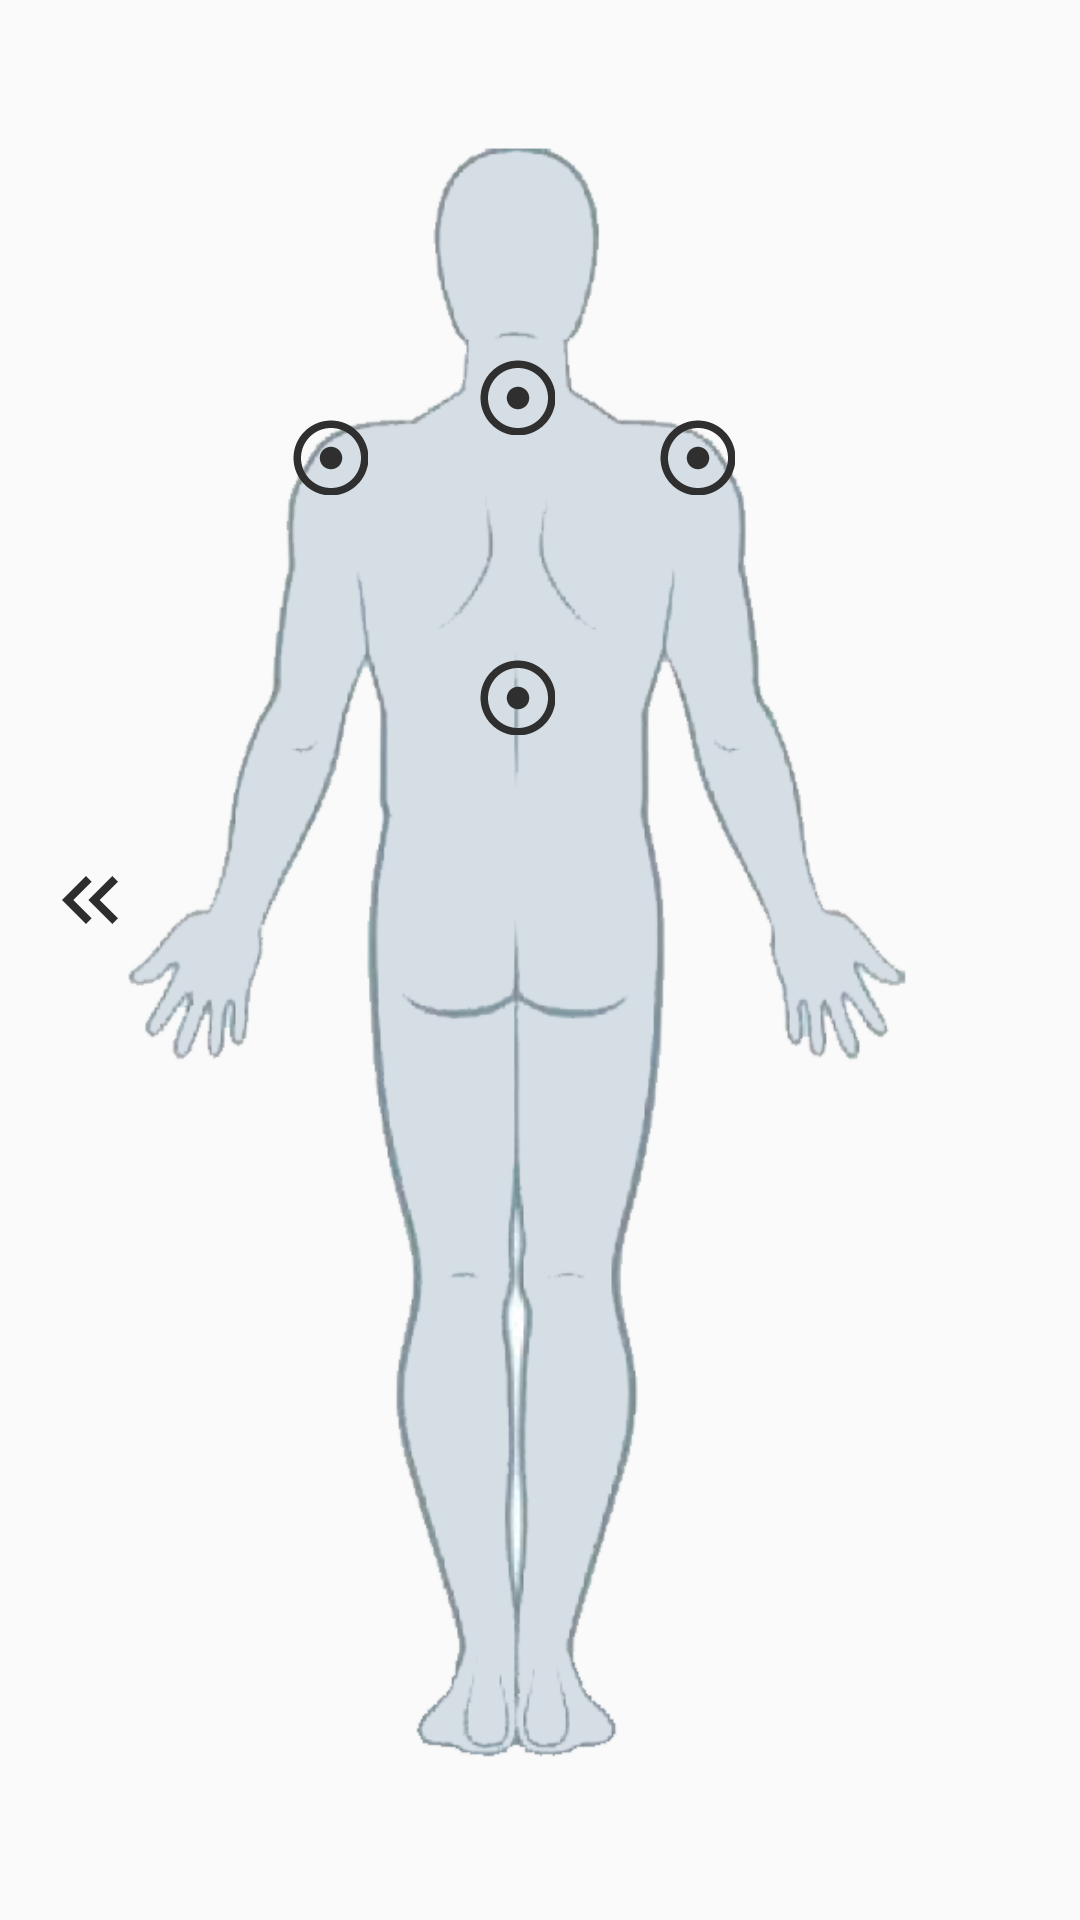

Named icons in this screenshot (1080×1920) and their centers, point (x, y):
keyboard double arrow left: point (90, 900)
mode standby: point (517, 397), point (330, 457), point (697, 457), point (517, 697)
